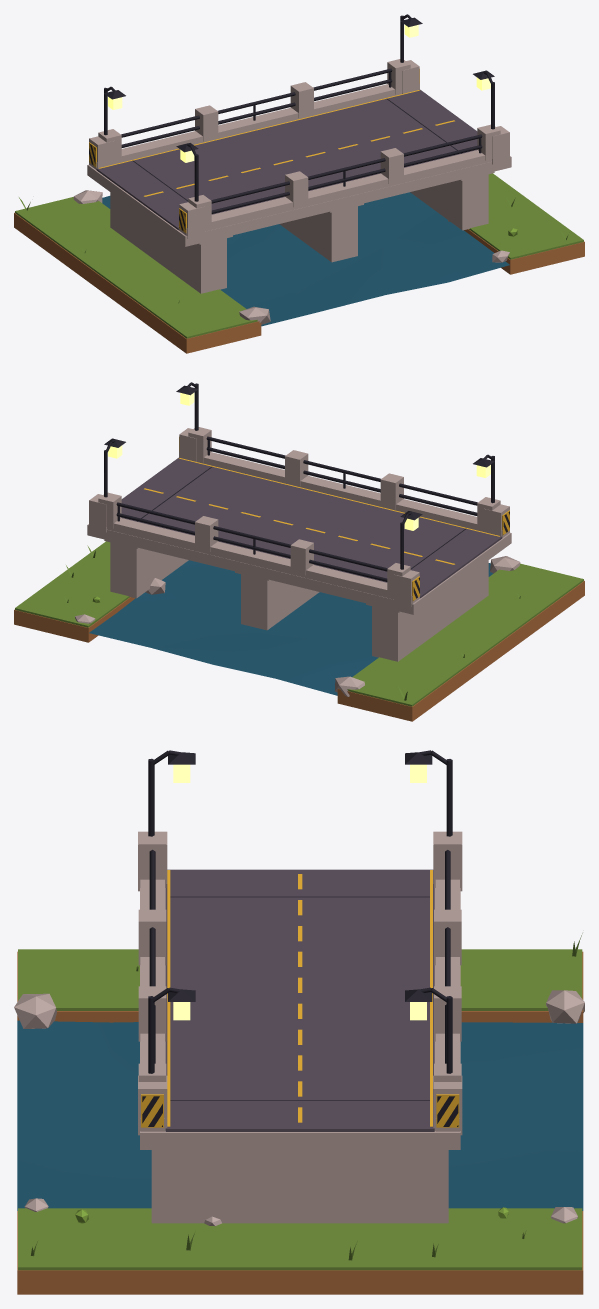
The model's file is bld.river-bridge.lod2.glb.
The picture shows the model from 3 angles, top to bottom: view 1: azimuth 30°, elevation 25°; view 2: azimuth 150°, elevation 25°; view 3: azimuth 270°, elevation 25°; orthographic projection. The views are drawn at different scales.
Parts seen in each view (by area): view 1: body; view 2: body; view 3: body.
Part boxes in pixels (bbox=[...]): body: bbox=[14, 14, 584, 353]; body: bbox=[14, 382, 584, 721]; body: bbox=[14, 750, 584, 1294].
Bounding box in the file's own units: 16 × 6.23 × 12.11.
